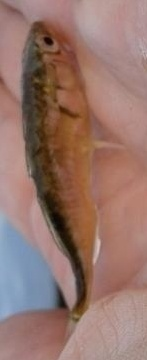Gasterosteus aculeatus: (20, 20, 127, 340)
